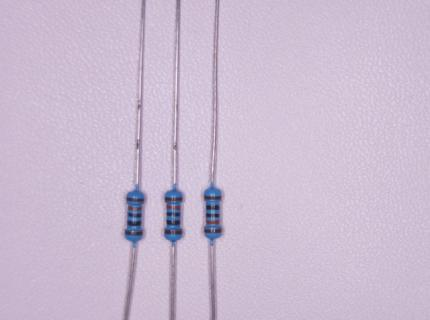Black band: (167, 220, 180, 225), (128, 221, 141, 226), (128, 213, 141, 218), (207, 205, 219, 210), (207, 213, 220, 217), (167, 212, 180, 216)
Brown band: (125, 231, 143, 236), (165, 230, 182, 235), (126, 198, 144, 202), (165, 197, 182, 201), (205, 229, 222, 233), (205, 196, 221, 200)
Orange band: (128, 206, 141, 211), (167, 205, 180, 210), (206, 220, 219, 224)
